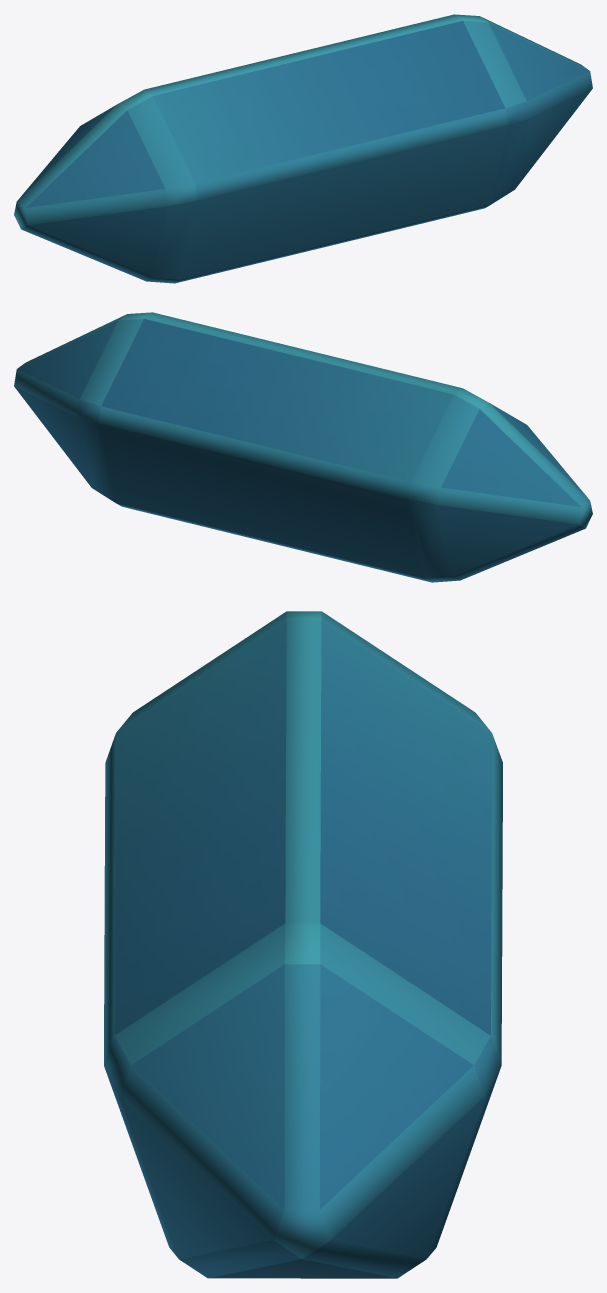
Rendered from christal_saphire_1.fbx.
The picture shows the model from 3 angles, top to bottom: view 1: azimuth 30°, elevation 25°; view 2: azimuth 150°, elevation 25°; view 3: azimuth 270°, elevation 25°; orthographic projection. The views are drawn at different scales.
Parts seen in each view (by area): view 1: christal_saphire_1; view 2: christal_saphire_1; view 3: christal_saphire_1.
Part boxes in pixels (x1=…): christal_saphire_1: x1=14, y1=14, x2=592, y2=283; christal_saphire_1: x1=14, y1=312, x2=592, y2=582; christal_saphire_1: x1=104, y1=611, x2=502, y2=1278.
Size of the model in its own units: 110 by 31.95 by 33.68.
1 material, 1 textured.
